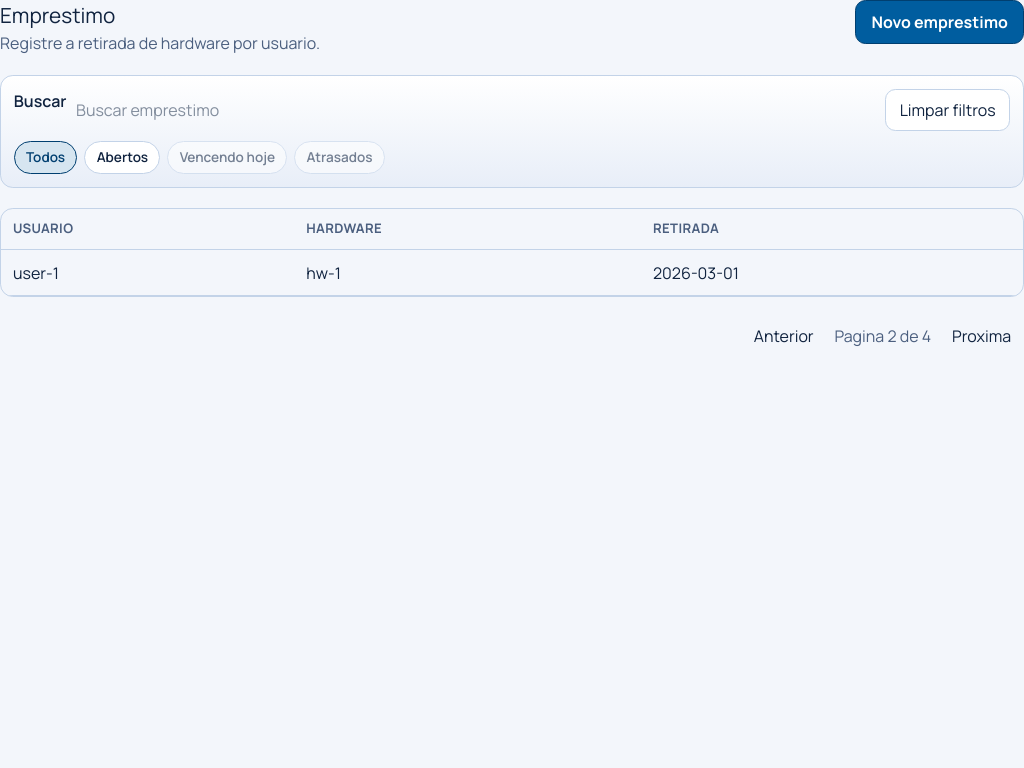
Test: EmprestimoPage listing flow › keeps modal open and preserves values on failure
This screenshot has width=1024, height=768.
Click the button "Novo emprestimo" at x=940, y=22, box x1=855 y1=0 x2=1023 y2=44
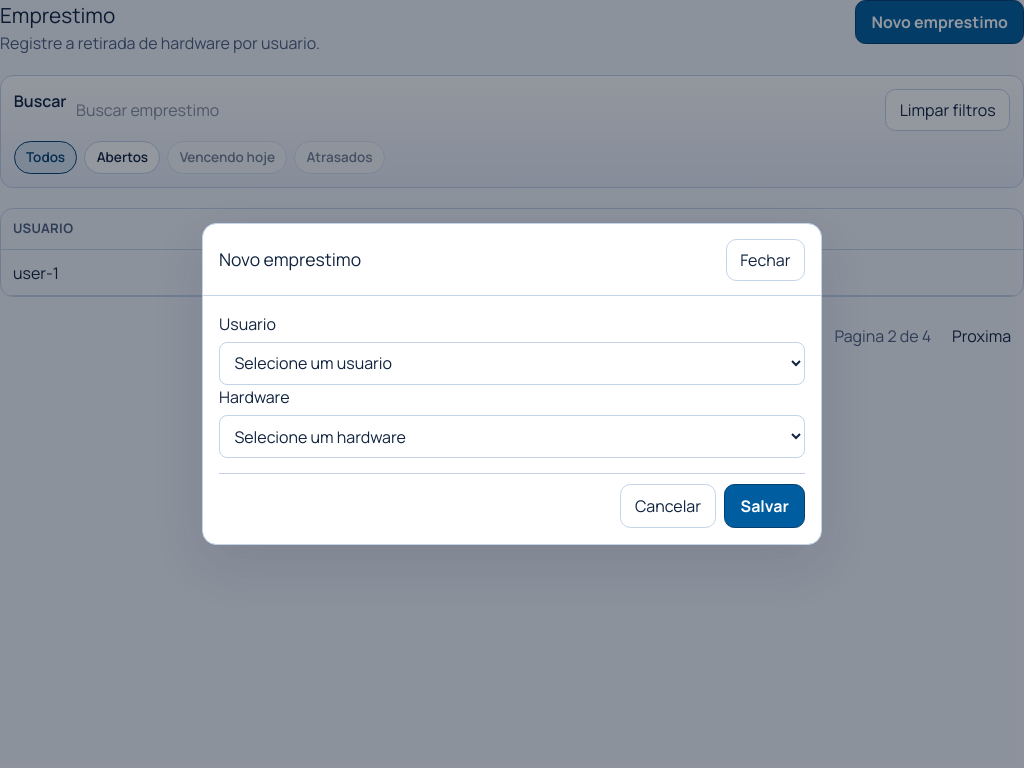
Select "Ana" in the dropdown labelled "Usuario" at x=512, y=363, box x1=219 y1=342 x2=805 y2=385
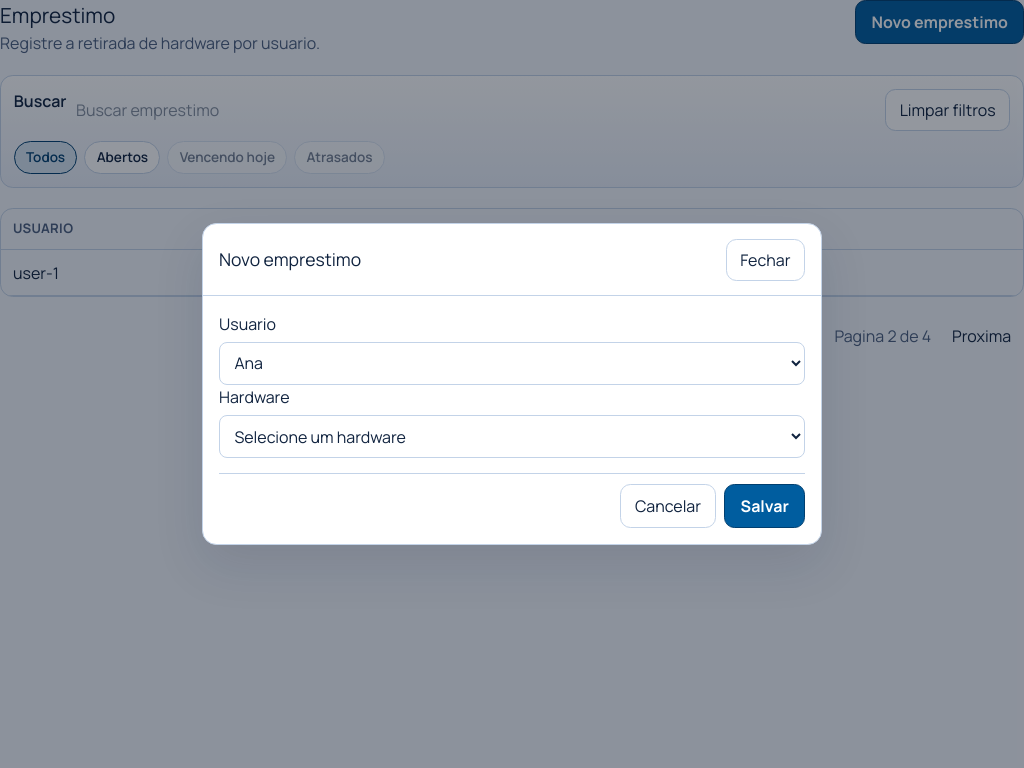
Select "Notebook - Dell Latitude (PAT-001)" in the dropdown labelled "Hardware" at x=512, y=437, box x1=219 y1=415 x2=805 y2=458
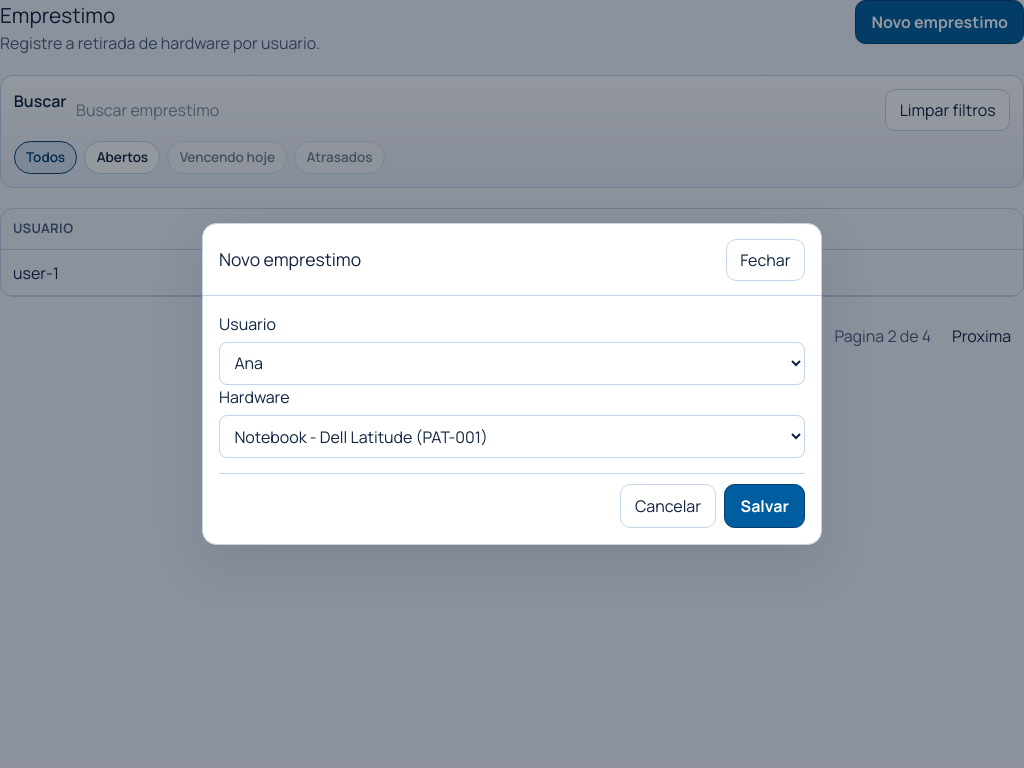
Click the button "Salvar" at x=765, y=506, box x1=724 y1=484 x2=805 y2=528
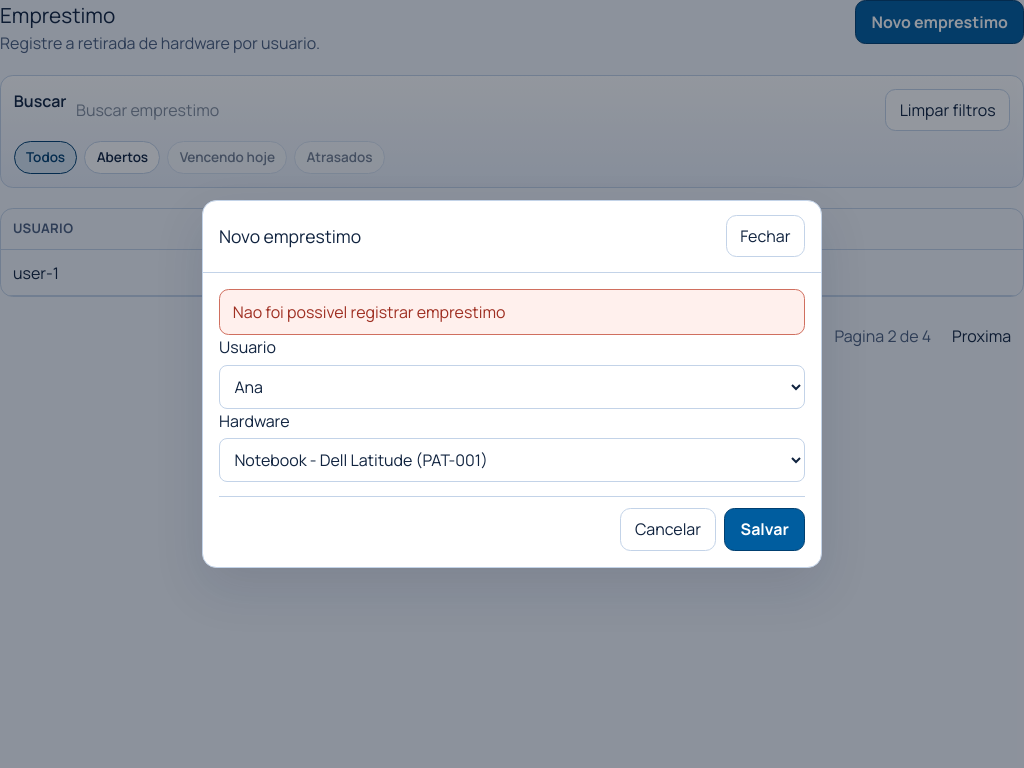
Result: the dialog "Novo emprestimo" is shown at x1=202 y1=200 x2=822 y2=568
Result: the text "Nao foi possivel registrar emprestimo" is shown at x1=219 y1=289 x2=805 y2=335
